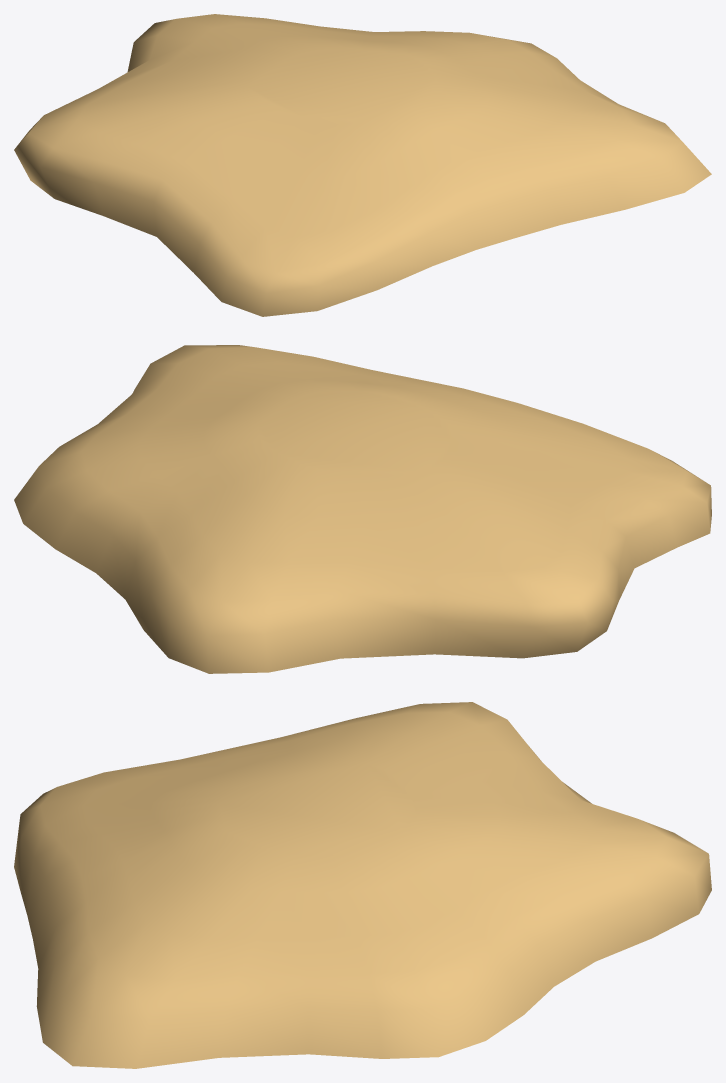
File: island_005.glb
3 renders of one model, top to bottom at view 1: azimuth 30°, elevation 25°; view 2: azimuth 150°, elevation 25°; view 3: azimuth 270°, elevation 25°, orthographic. The views are drawn at different scales.
Visible parts, largest first — view 1: Circle; view 2: Circle; view 3: Circle.
Part boxes in pixels (x1,y1,x2,y2): Circle: (14, 14, 711, 316); Circle: (14, 345, 711, 673); Circle: (14, 702, 711, 1068).
Size of the model in its own units: 12 by 2.25 by 11.17.
